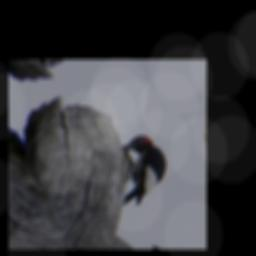Woodpecker: (99, 127, 181, 212)
